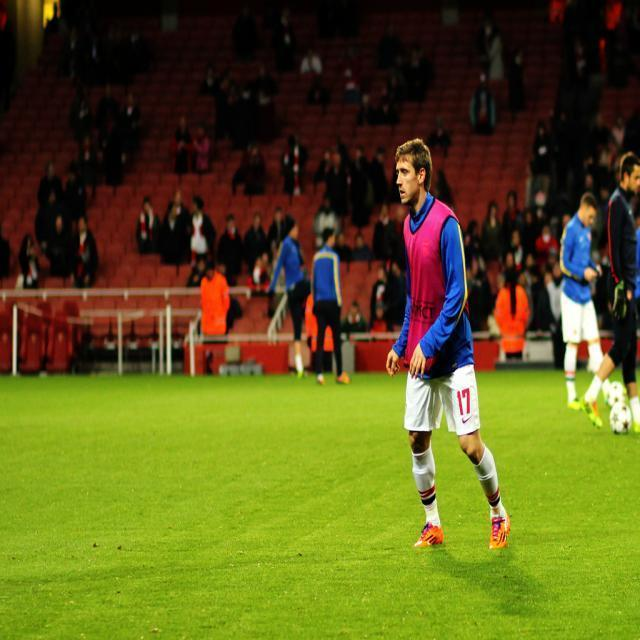ball: (608, 400, 633, 433), (605, 379, 628, 410)
